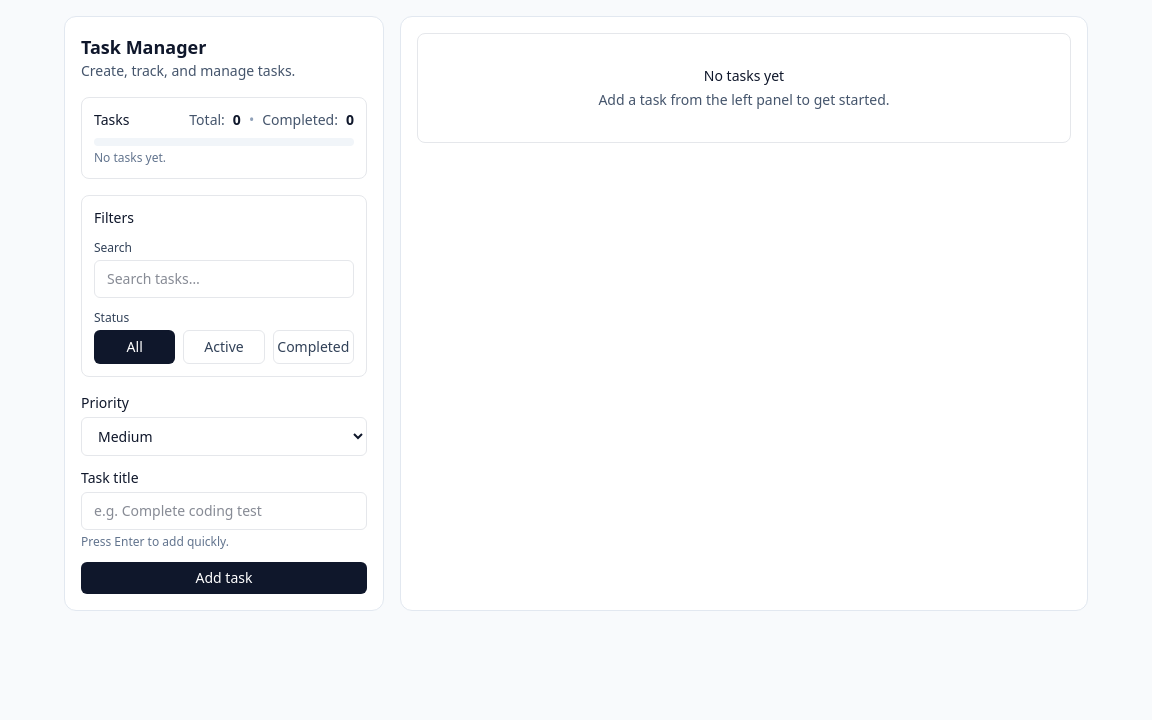
Scenario: App filters › filters by search query
This screenshot has width=1152, height=720.
Type "Buy milk" into the field labelled "Task title".
click(224, 511); type("Buy milk")  # box [81,492,367,530]
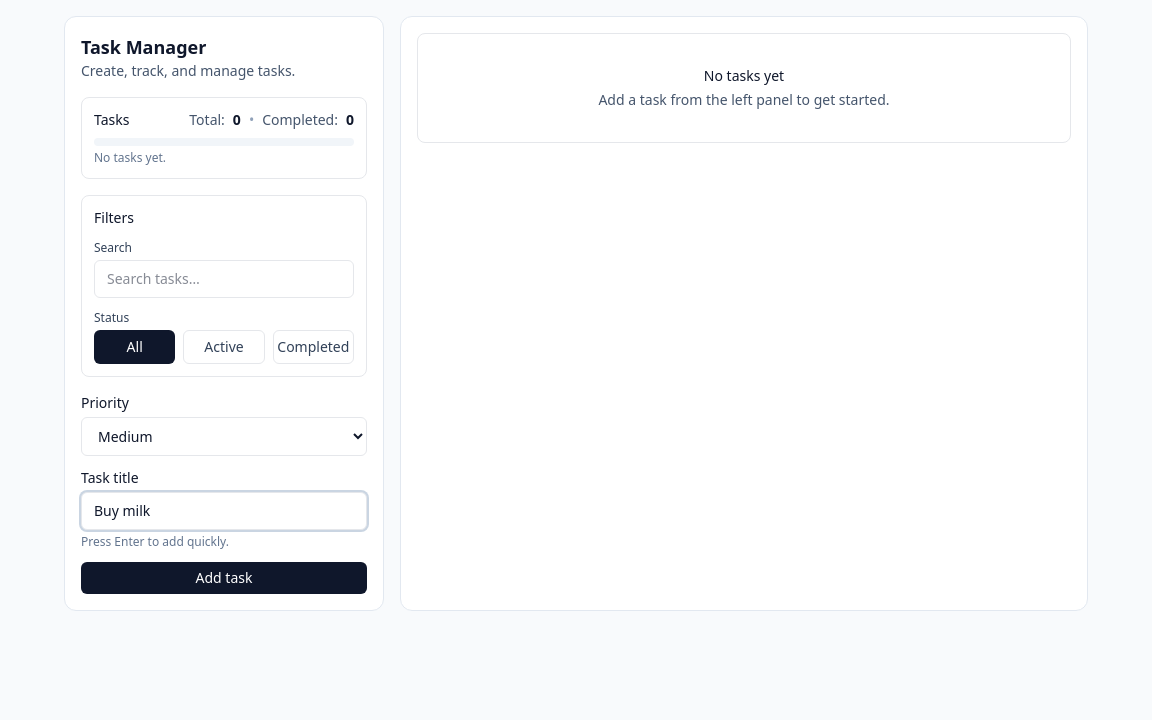
Click the button "Add task".
click(224, 578)  # box [81,562,367,594]
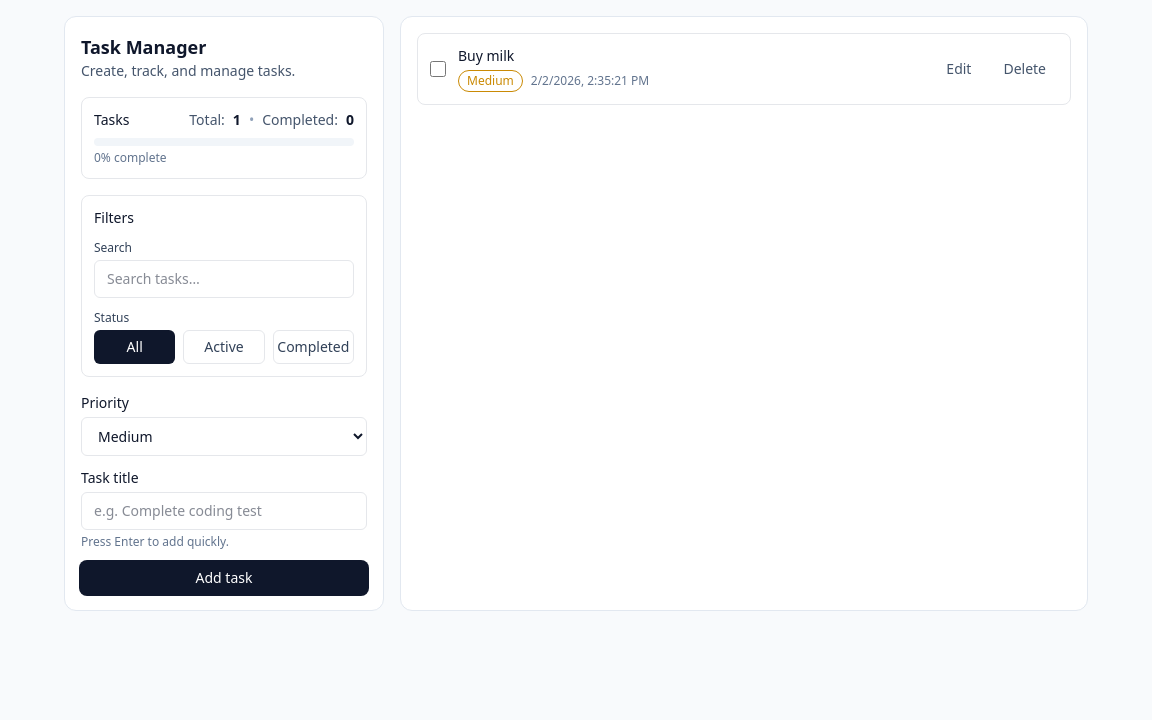
Type "Read book" into the field labelled "Task title".
click(224, 511); type("Read book")  # box [81,492,367,530]
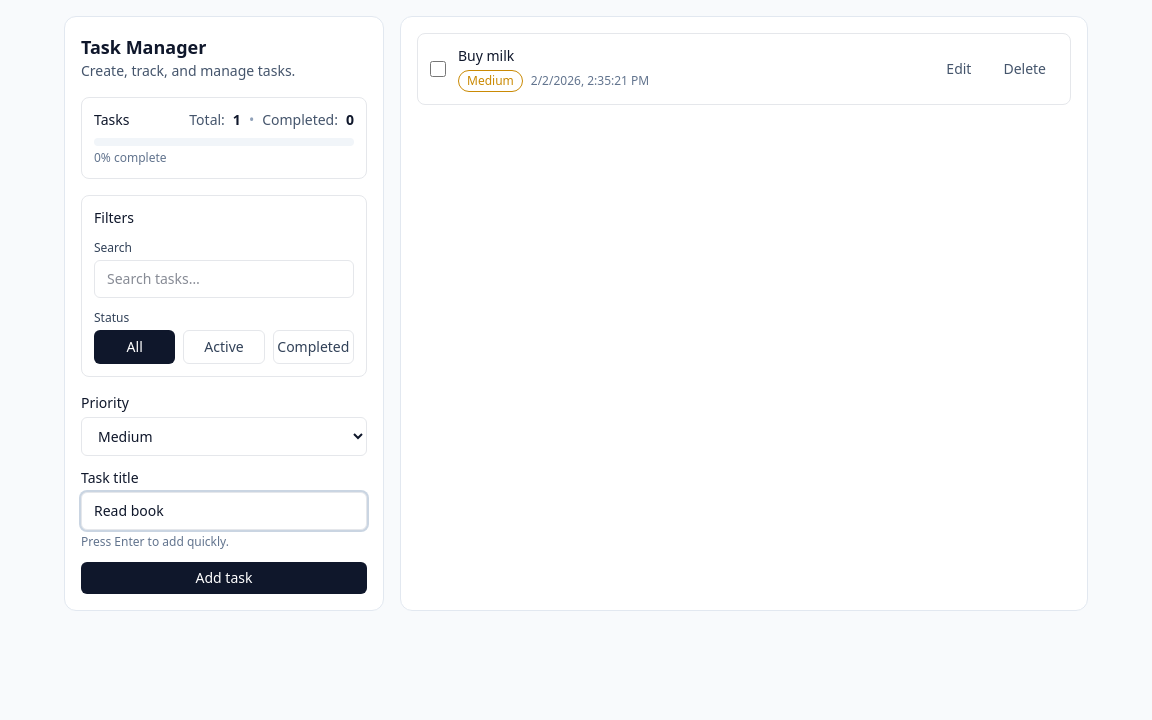
Click the button "Add task".
click(224, 578)  # box [81,562,367,594]
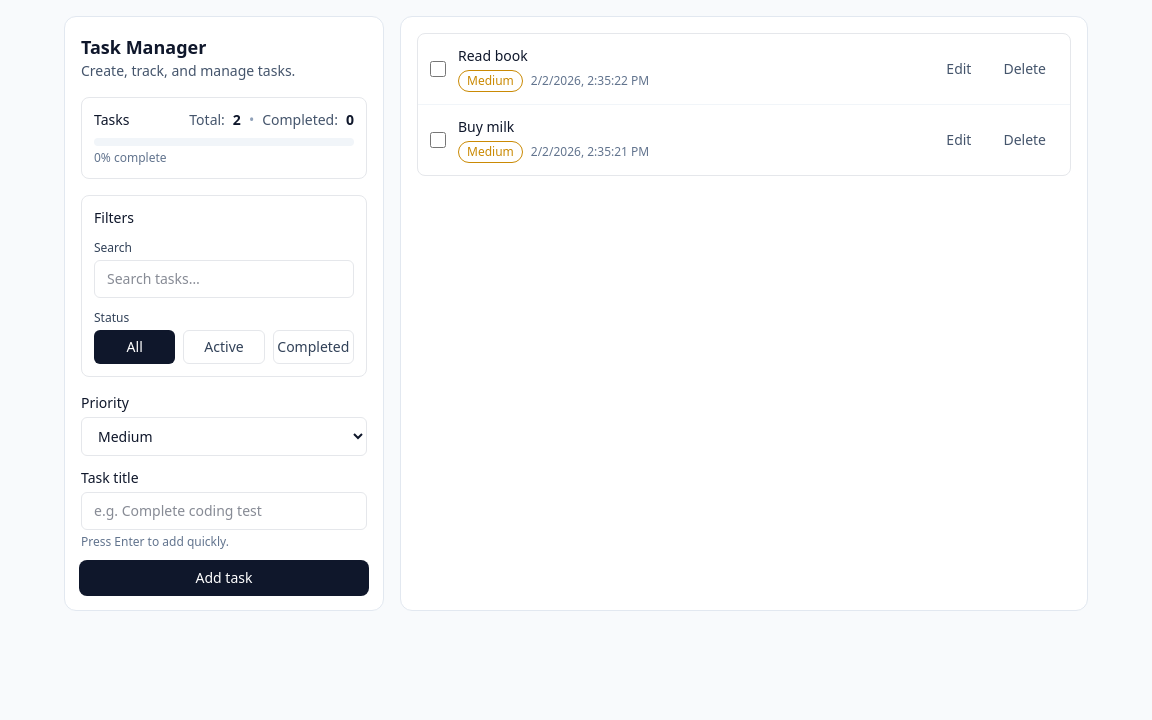
# Search input label depends on your TaskFilters
Type "milk" into the field labelled "Search".
click(224, 279); type("milk")  # box [94,260,354,298]
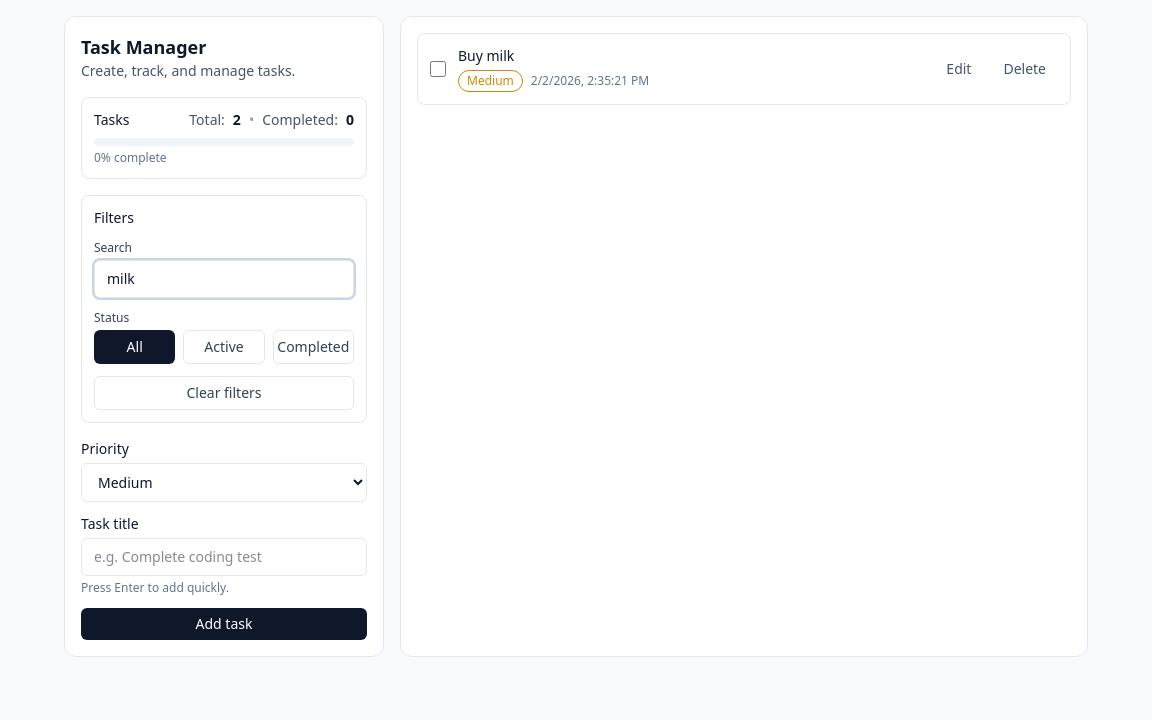
Check: the text "Buy milk" is shown, box [458,46,514,65]
Check: the text "Read book" is gone
